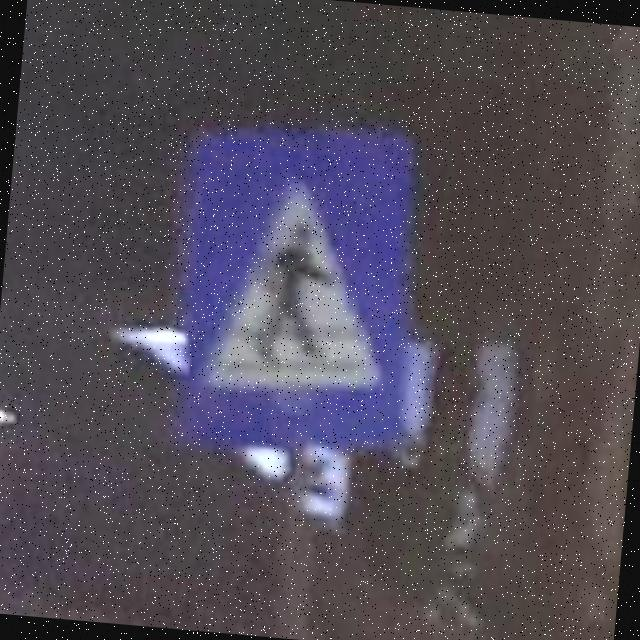Przejscie dla pieszych: (163, 118, 426, 457)
